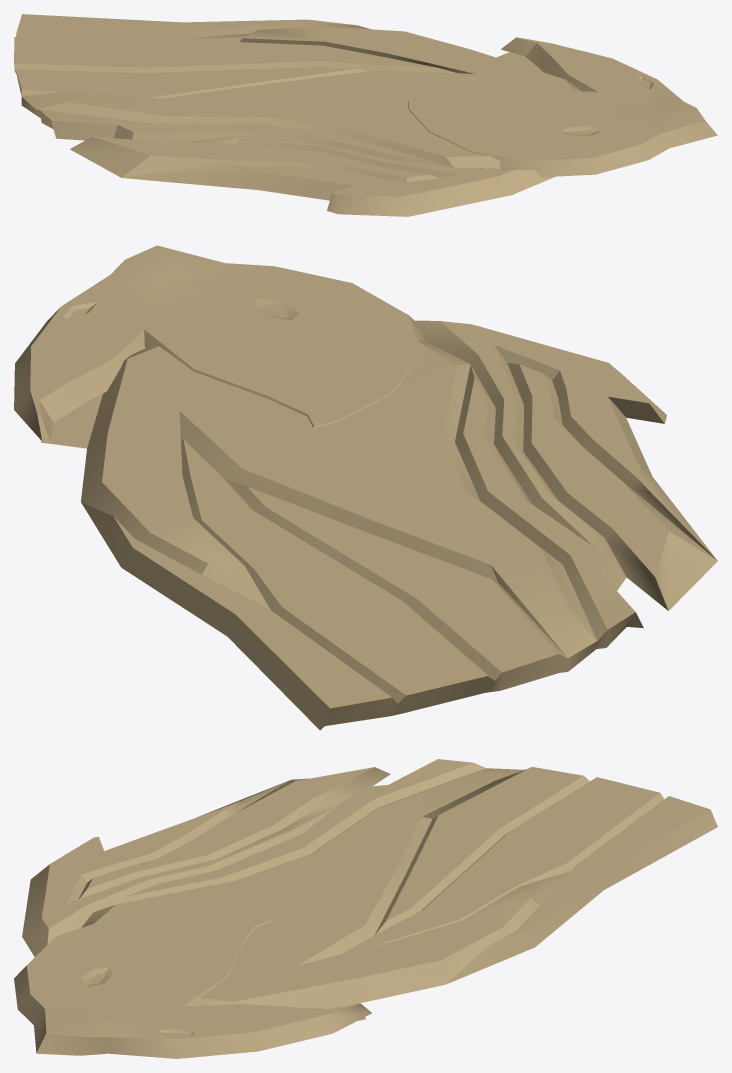
File: bird-small.fbx
3 views of the same model, one above another, from view 1: azimuth 30°, elevation 25°; view 2: azimuth 150°, elevation 25°; view 3: azimuth 270°, elevation 25° (orthographic). The views are drawn at different scales.
Parts seen in each view (by area): view 1: bird-small; view 2: bird-small; view 3: bird-small.
Boxes of the visible parts, x1=… form: bird-small: x1=14, y1=14, x2=717, y2=216; bird-small: x1=14, y1=245, x2=717, y2=730; bird-small: x1=14, y1=759, x2=717, y2=1058.
Size of the model in its own units: 335 by 11.5 by 345.
